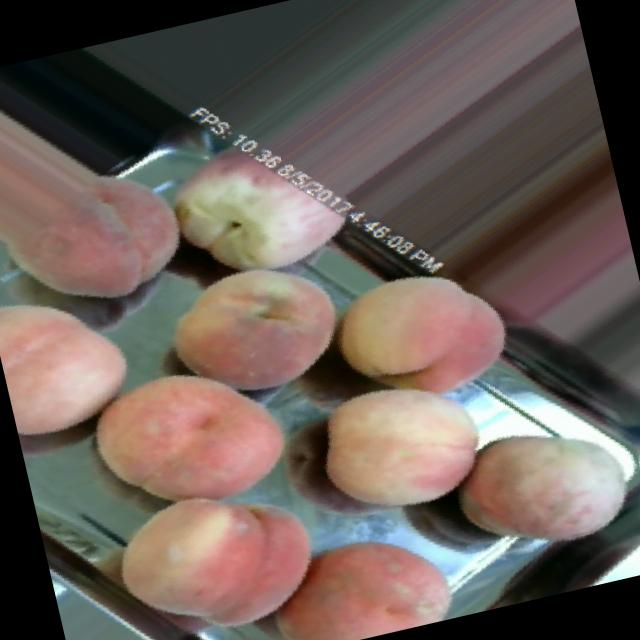Fruit: (0, 31, 214, 346), (298, 218, 550, 446), (60, 326, 316, 547), (85, 452, 349, 640), (133, 95, 383, 291), (288, 343, 516, 545), (143, 240, 378, 433), (427, 381, 640, 584), (0, 252, 162, 463), (242, 501, 473, 640)
